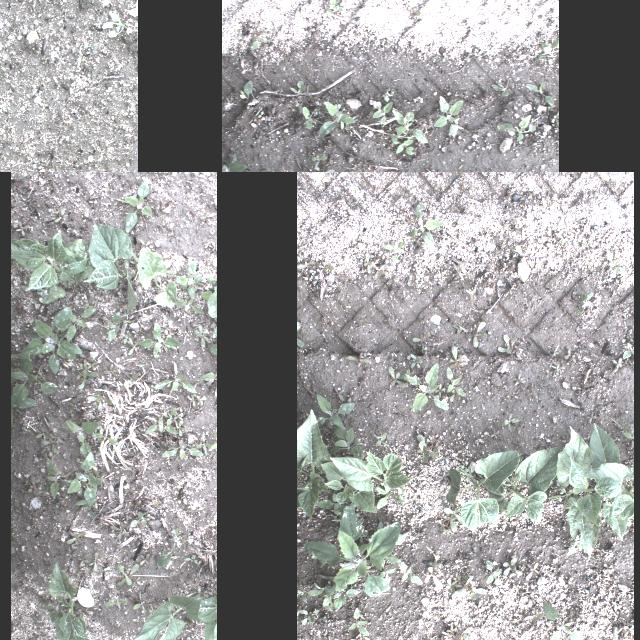crop: (548, 424, 634, 562), (10, 230, 96, 304), (446, 451, 520, 532), (490, 446, 560, 524), (82, 223, 138, 314), (296, 408, 332, 520), (38, 561, 89, 640), (328, 452, 406, 493), (133, 595, 204, 640), (321, 462, 377, 512), (136, 248, 178, 310), (190, 566, 217, 640)
weed: (298, 499, 404, 613), (22, 306, 82, 374), (11, 351, 59, 429), (314, 390, 364, 458), (403, 362, 452, 414), (526, 598, 581, 640), (66, 452, 102, 512), (52, 421, 98, 463), (122, 178, 152, 234), (138, 322, 182, 360), (405, 202, 441, 244), (42, 459, 76, 499), (175, 260, 205, 302), (154, 363, 196, 393), (394, 110, 430, 144), (434, 97, 464, 137), (157, 528, 185, 568), (344, 603, 373, 640), (448, 574, 489, 600), (497, 114, 537, 140), (65, 308, 95, 342), (388, 556, 422, 586), (412, 436, 442, 466), (161, 441, 203, 461), (424, 548, 444, 590), (524, 80, 556, 106), (326, 103, 356, 129), (376, 485, 408, 509), (101, 12, 129, 38), (437, 506, 461, 536), (116, 561, 142, 587), (362, 252, 388, 278), (446, 368, 464, 404), (90, 432, 120, 453), (440, 621, 471, 640), (534, 40, 558, 64), (145, 416, 177, 434), (500, 558, 522, 584), (198, 364, 217, 394), (607, 248, 625, 278), (390, 134, 414, 156), (612, 418, 634, 442), (468, 322, 488, 348), (194, 430, 212, 458), (408, 328, 432, 349), (497, 333, 518, 357), (105, 588, 127, 610), (298, 606, 320, 628), (174, 298, 204, 314), (88, 390, 112, 410), (371, 101, 393, 122), (40, 432, 62, 453), (501, 412, 521, 434), (107, 312, 121, 343), (194, 324, 212, 348), (386, 362, 404, 386), (373, 430, 393, 450), (316, 120, 338, 138), (451, 255, 465, 283), (449, 342, 465, 366), (566, 532, 582, 556), (221, 157, 246, 172), (513, 245, 529, 268), (300, 104, 314, 130), (580, 287, 594, 313), (486, 560, 500, 586), (130, 510, 150, 528), (109, 521, 129, 539), (383, 242, 401, 262), (238, 80, 254, 102), (490, 80, 512, 96), (526, 561, 542, 583), (297, 252, 313, 274), (120, 374, 138, 392), (556, 230, 574, 248), (133, 592, 149, 612), (88, 552, 104, 572), (564, 344, 580, 364), (464, 286, 478, 308), (348, 350, 369, 364), (318, 260, 336, 276), (27, 476, 41, 496), (162, 407, 176, 427), (620, 620, 634, 640), (552, 196, 568, 212), (500, 216, 516, 232), (326, 0, 344, 14), (128, 337, 142, 355), (409, 352, 423, 370), (209, 339, 217, 370), (66, 532, 86, 544), (620, 341, 632, 361), (332, 381, 344, 401), (211, 425, 217, 463), (15, 220, 29, 236), (75, 369, 97, 379), (78, 369, 89, 388), (288, 82, 304, 95), (249, 40, 269, 50), (612, 356, 626, 370), (583, 412, 597, 426), (470, 601, 484, 615), (602, 560, 614, 576), (92, 471, 106, 483), (87, 502, 99, 516), (452, 322, 464, 336), (512, 374, 526, 386), (552, 361, 562, 377), (504, 616, 520, 626), (310, 154, 328, 162), (53, 210, 65, 222), (76, 554, 88, 566), (534, 394, 546, 406), (368, 333, 380, 345), (140, 239, 150, 253), (129, 253, 139, 267), (122, 314, 132, 328), (84, 361, 98, 371), (184, 554, 198, 564), (140, 552, 150, 566), (190, 587, 203, 597), (383, 90, 395, 100), (120, 333, 132, 343), (80, 353, 92, 363), (491, 430, 501, 442), (104, 367, 118, 375), (200, 292, 214, 300), (517, 423, 525, 437), (176, 402, 186, 412), (550, 347, 560, 357), (588, 189, 598, 199), (200, 213, 216, 219), (202, 240, 214, 248), (164, 270, 176, 278), (196, 396, 208, 404), (82, 297, 91, 307), (174, 410, 183, 420), (0, 65, 8, 76), (178, 422, 184, 436), (298, 336, 304, 350), (139, 360, 145, 372), (190, 395, 196, 407), (35, 431, 47, 437), (297, 319, 303, 331), (211, 241, 217, 252), (132, 328, 138, 338), (69, 404, 75, 414), (95, 416, 101, 426), (541, 374, 547, 384), (74, 364, 82, 371), (22, 426, 30, 432), (194, 406, 202, 412), (77, 46, 79, 68), (430, 636, 438, 640), (125, 114, 135, 116)
